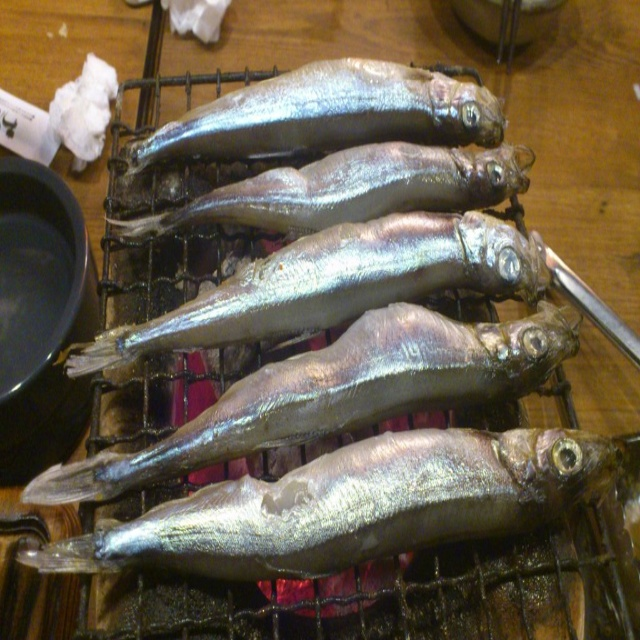Fish: (14, 57, 626, 581)
